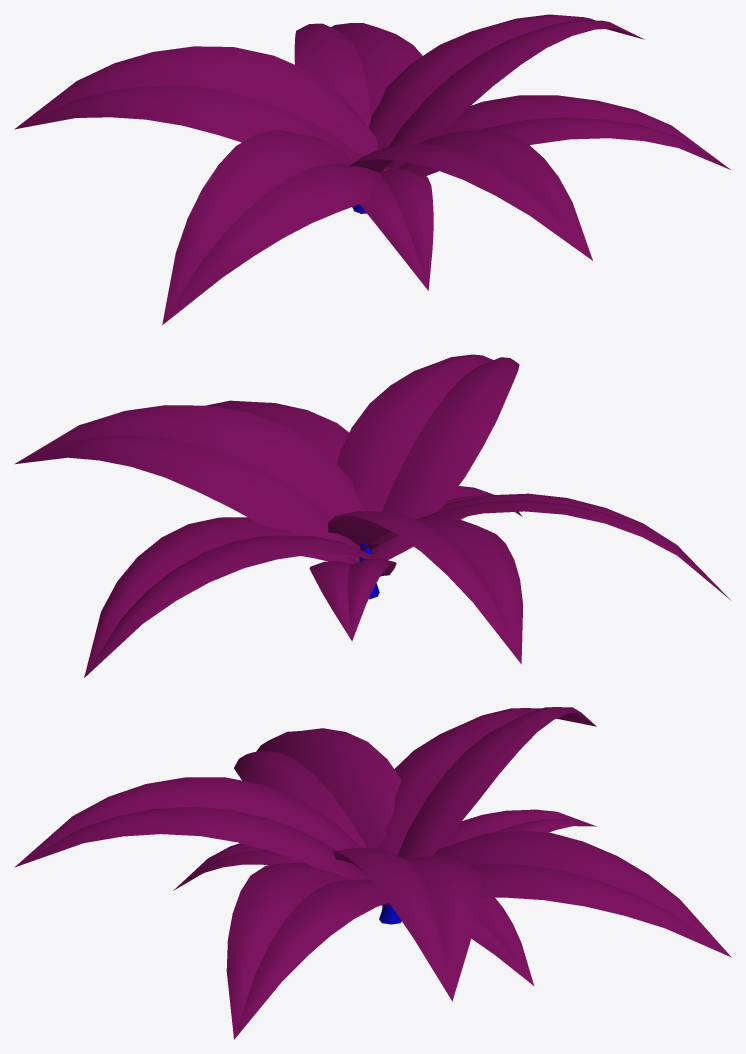
Rendered from planta_lod1.fbx.
The picture shows the model from 3 angles, top to bottom: view 1: azimuth 30°, elevation 25°; view 2: azimuth 150°, elevation 25°; view 3: azimuth 270°, elevation 25°; orthographic projection. The views are drawn at different scales.
Parts seen in each view (by area): view 1: plant_lod1; view 2: plant_lod1; view 3: plant_lod1.
Part boxes in pixels (box(x1,y1,x2,y2)): plant_lod1: box(14, 14, 730, 324); plant_lod1: box(14, 354, 731, 677); plant_lod1: box(14, 707, 731, 1039).
Bounding box in the file's own units: 237 × 245 × 51.92.
